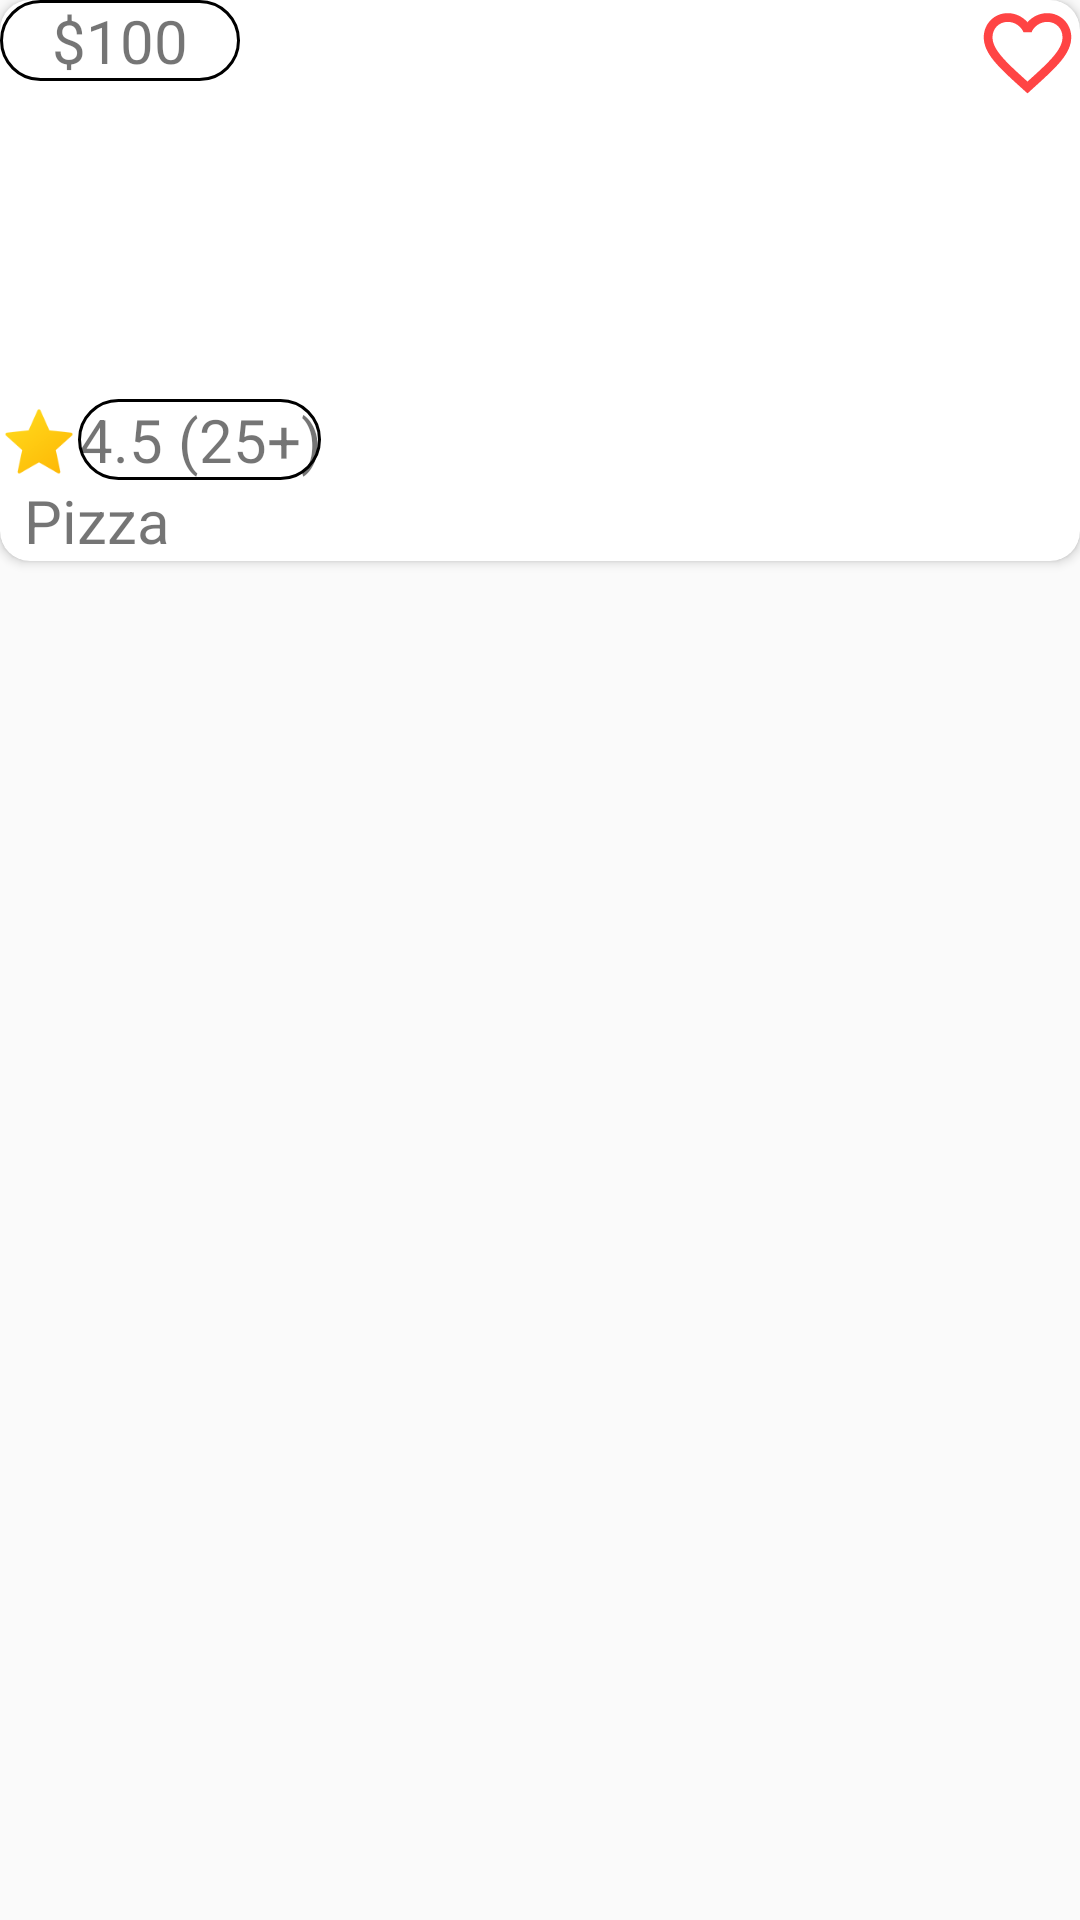

Where icons sit on this 1080×1920 app screen, as [x1,y1,x2,y2]:
favorite toggle selcet: [983,0,1080,93]
star: [5,409,73,474]
